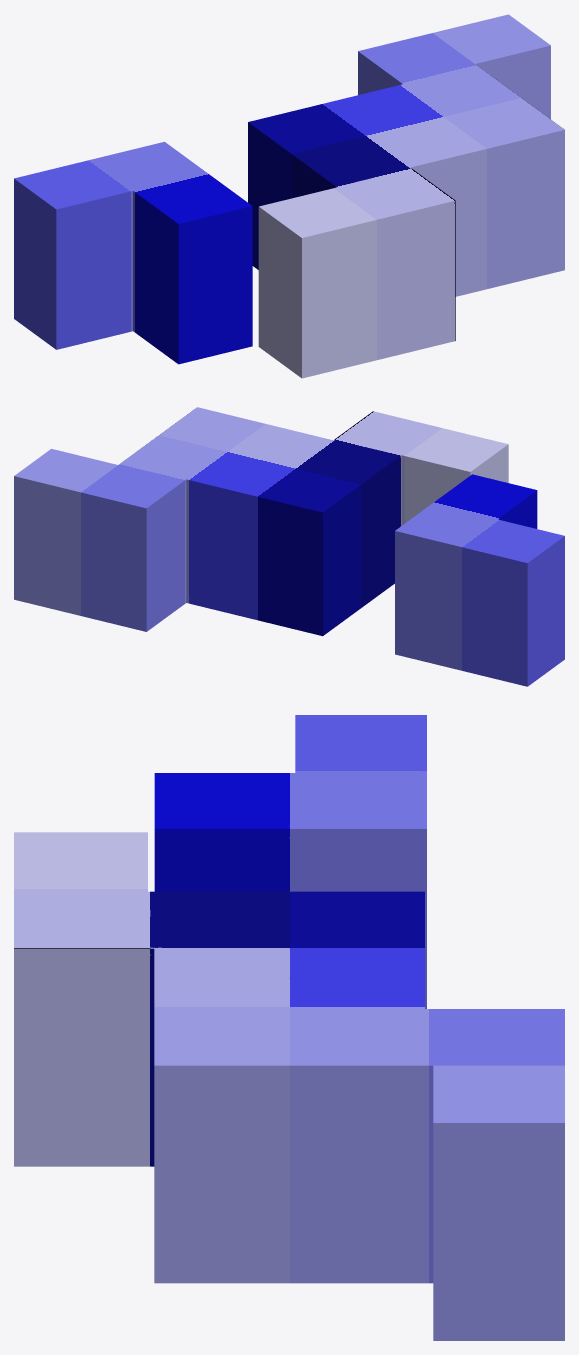
File: garbage_415x09.gltf
3 views of the same model, one above another, from view 1: azimuth 30°, elevation 25°; view 2: azimuth 150°, elevation 25°; view 3: azimuth 270°, elevation 25° (orthographic). The views are drawn at different scales.
Visible parts, largest first — view 1: garbage_415x09; view 2: garbage_415x09; view 3: garbage_415x09.
Boxes of the visible parts, box(x1,y1,x2,y2) form: garbage_415x09: box(14, 14, 564, 378); garbage_415x09: box(14, 407, 564, 686); garbage_415x09: box(14, 715, 564, 1340).
Bounding box in the file's own units: 0.432 × 0.1075 × 0.2465.
1 material, 1 textured.
